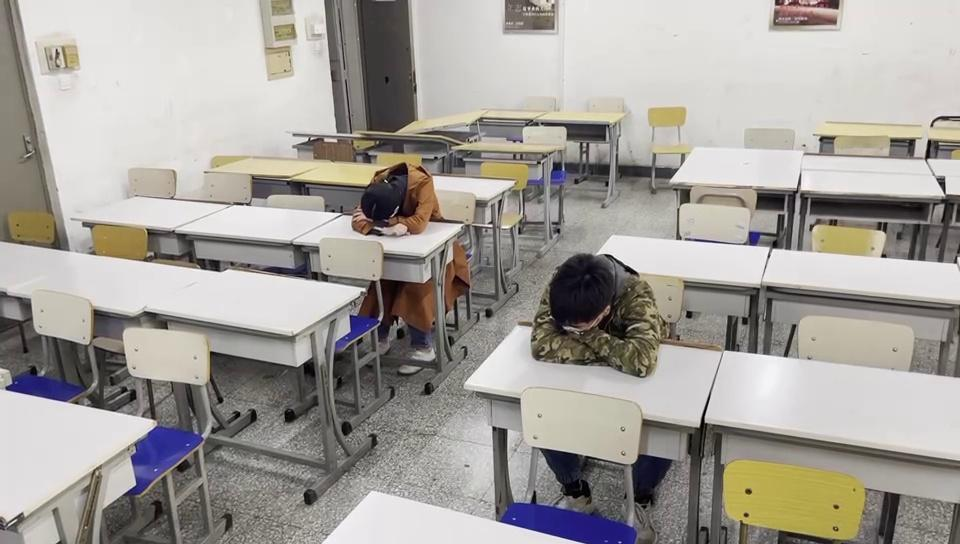sleep: (533, 262, 657, 370), (353, 163, 434, 233)
